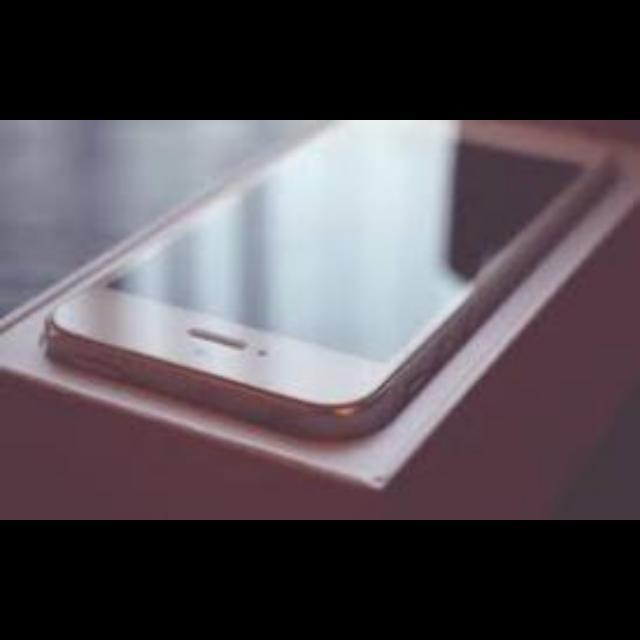Phone: (46, 122, 610, 440)
